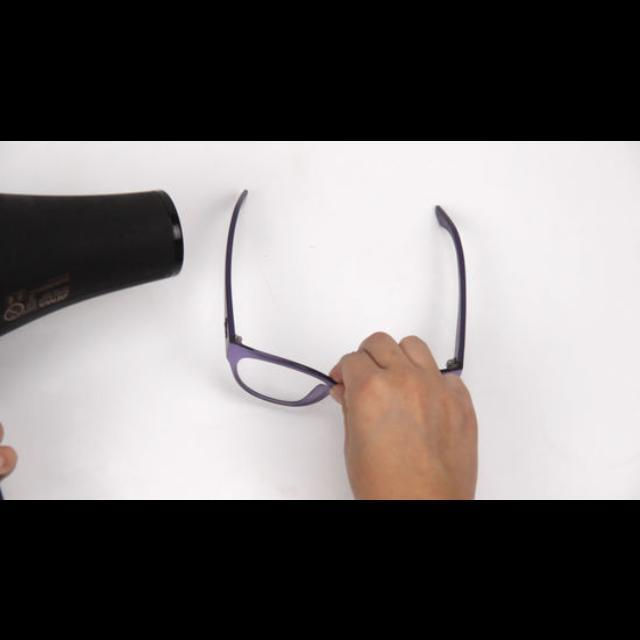mask: (223, 188, 469, 406)
